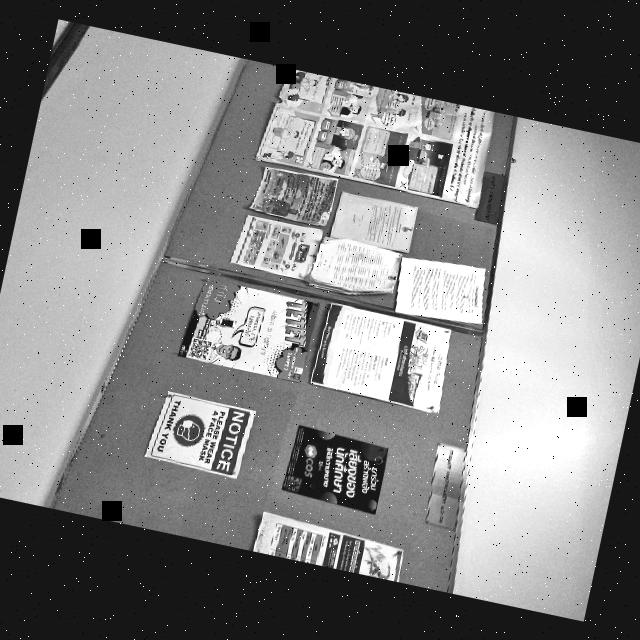reuseable_paper: (252, 66, 501, 214), (306, 187, 504, 326), (300, 296, 462, 424), (166, 264, 324, 392), (227, 158, 340, 286), (266, 418, 398, 522), (245, 501, 409, 582), (139, 378, 258, 482)
